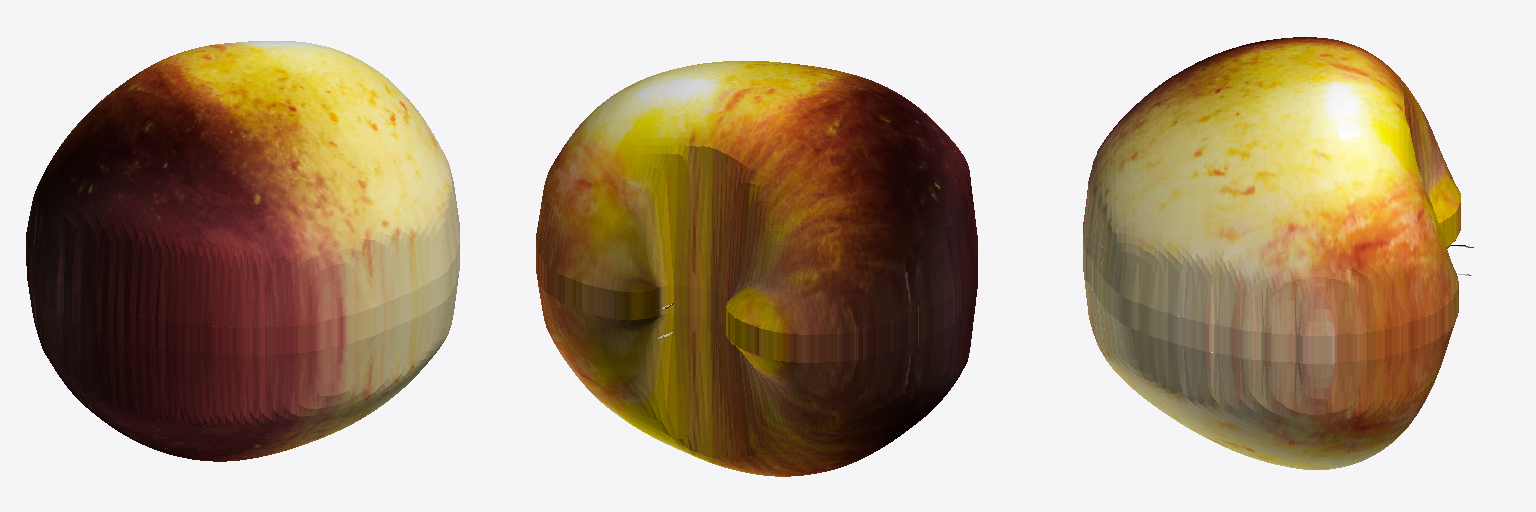
The picture shows the model from 3 angles: view 1: azimuth 30°, elevation 25°; view 2: azimuth 150°, elevation 25°; view 3: azimuth 270°, elevation 25°; orthographic projection.
Visible parts, largest first — view 1: Grid; view 2: Grid; view 3: Grid.
Boxes of the visible parts, x1,y1,x2,y2 form: Grid: [26, 41, 459, 461]; Grid: [536, 61, 977, 476]; Grid: [1083, 37, 1473, 469].
Bounding box in the file's own units: 1.73 × 1.61 × 1.52.
Materials: 2 (1 with a texture image).